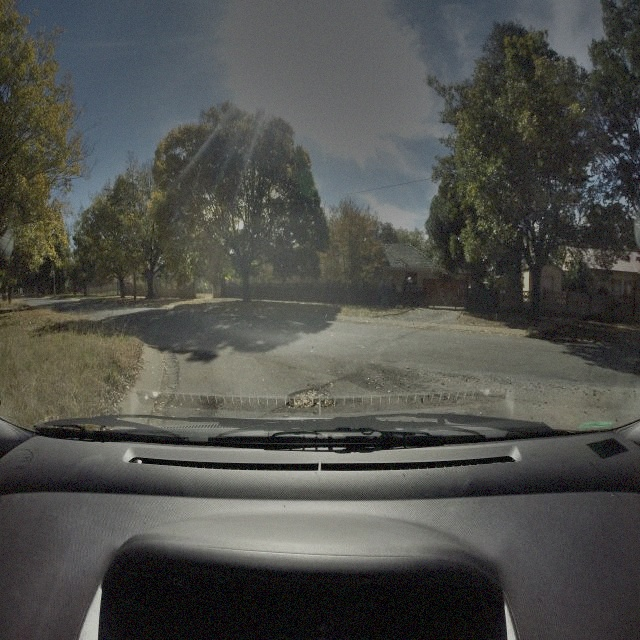pothole: (285, 384, 336, 410)
